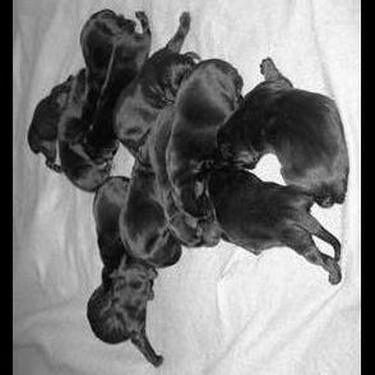dog: (217, 57, 342, 208), (206, 162, 343, 290), (115, 12, 202, 161), (164, 58, 245, 217), (84, 252, 168, 371), (151, 104, 220, 248), (121, 119, 180, 268), (80, 6, 137, 119), (91, 176, 136, 279), (28, 69, 72, 174), (55, 135, 112, 190), (58, 65, 90, 142)
